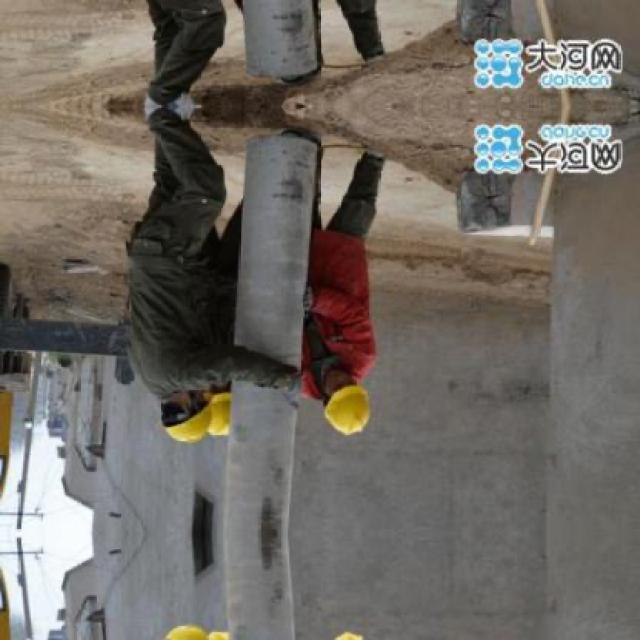con casco: (137, 362, 218, 447), (299, 378, 381, 452), (182, 384, 242, 456)
